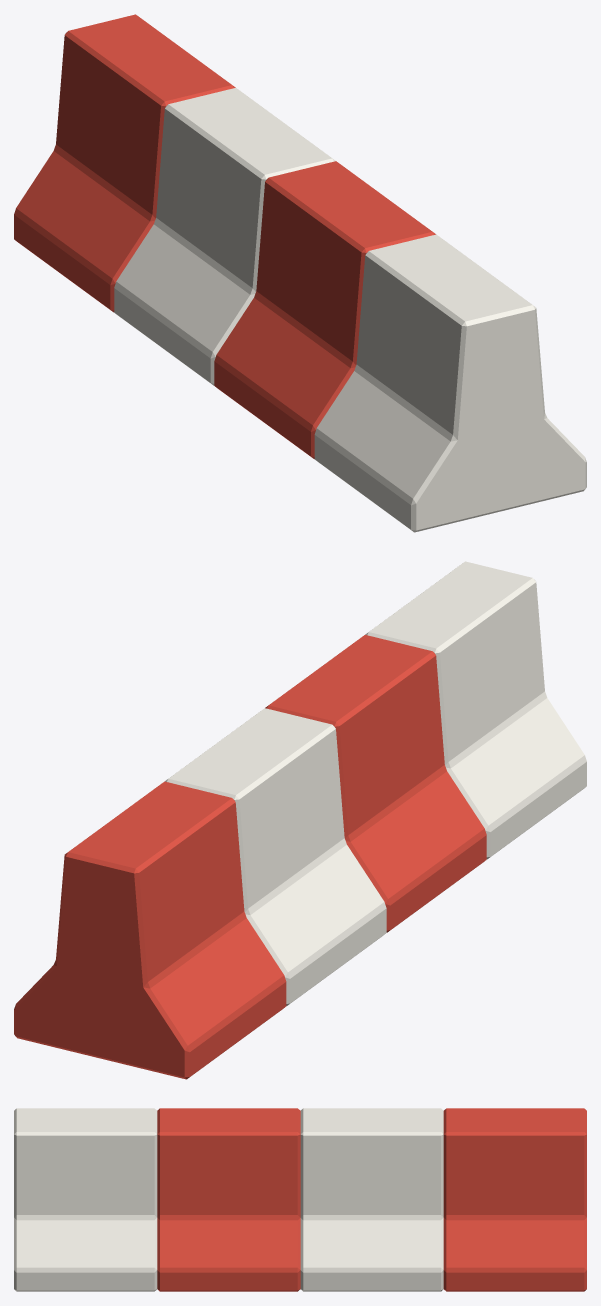
The model's file is safety_barrier.glb.
The picture shows the model from 3 angles, top to bottom: view 1: azimuth 30°, elevation 25°; view 2: azimuth 150°, elevation 25°; view 3: azimuth 270°, elevation 25°; orthographic projection. The views are drawn at different scales.
Parts seen in each view (by area): view 1: Body.009; view 2: Body.009; view 3: Body.009.
Boxes of the visible parts, box(x1,y1,x2,y2) form: Body.009: box(14, 14, 586, 532); Body.009: box(14, 561, 586, 1079); Body.009: box(14, 1108, 586, 1291).
Size of the model in its own units: 0.76 by 0.82 by 3.
